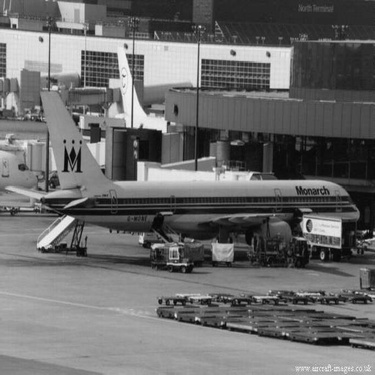airplane: (11, 63, 367, 268), (72, 25, 216, 162)
